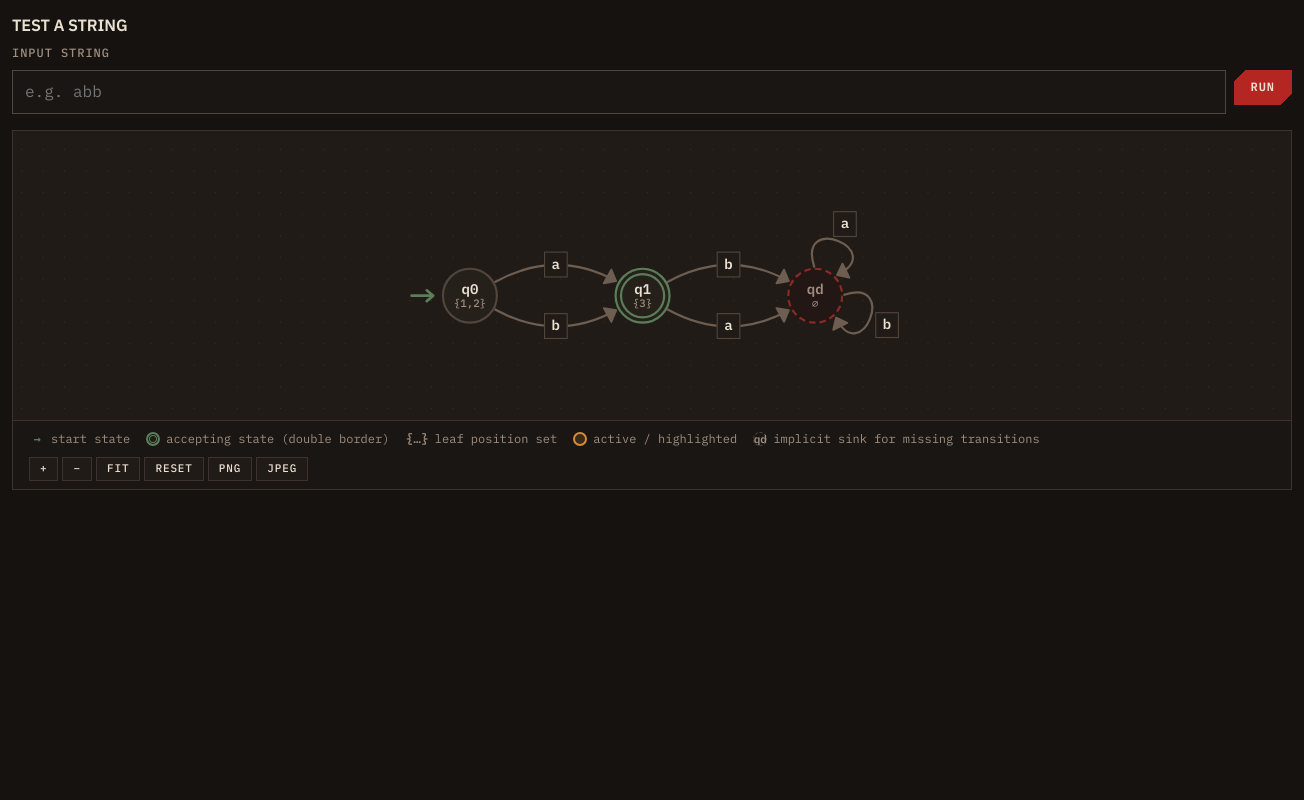
Scenario: <StringSimulator /> › runs a valid string, displays verdict and trace, and steps through trace
Type "a" into the field labelled "Input string" at (619, 92), box [12,70,1226,114]
Then press Enter
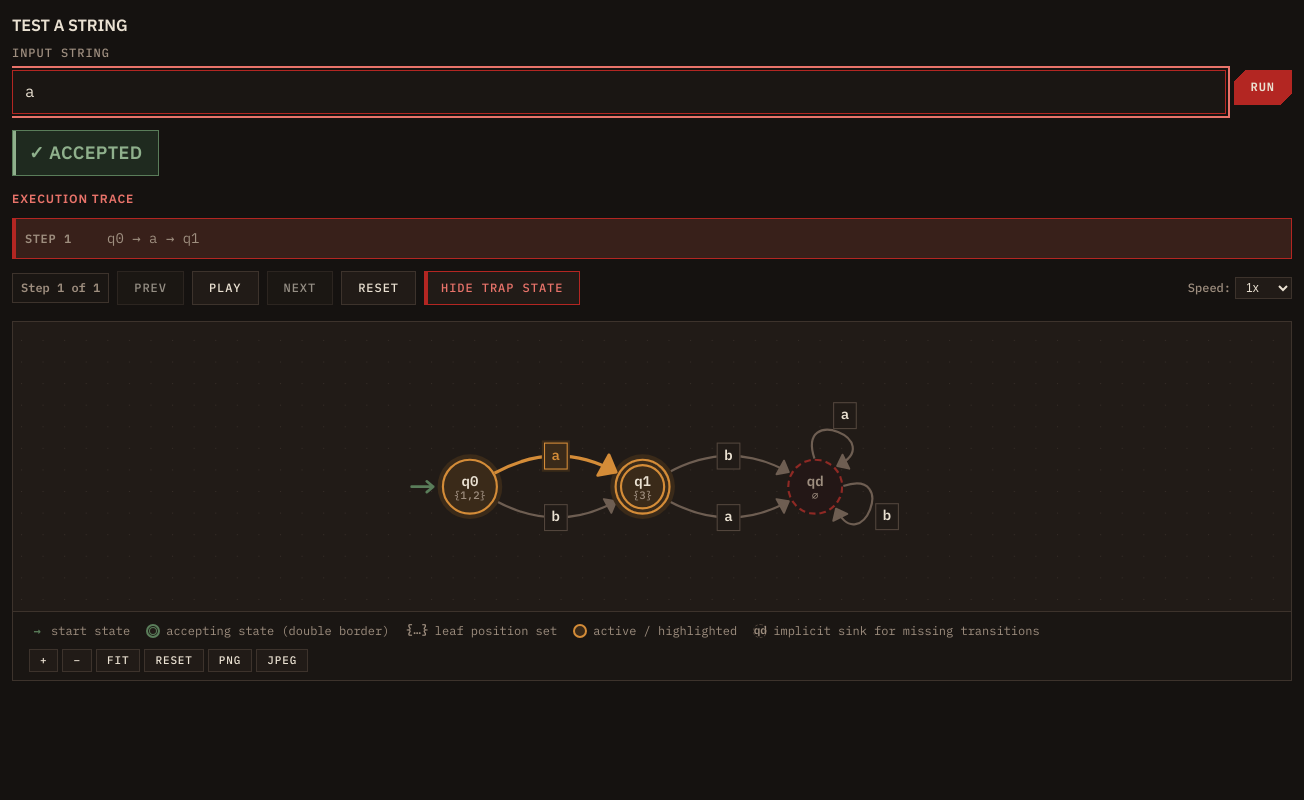
Result: the message shows "ACCEPTED" at [29,141,142,164]
Result: the text "Step 1" is shown at [25,231,72,246]
Result: the button with aria-label "play simulation animation" is shown
Click the button with aria-label "play simulation animation" at (225, 288), box [192,271,258,305]
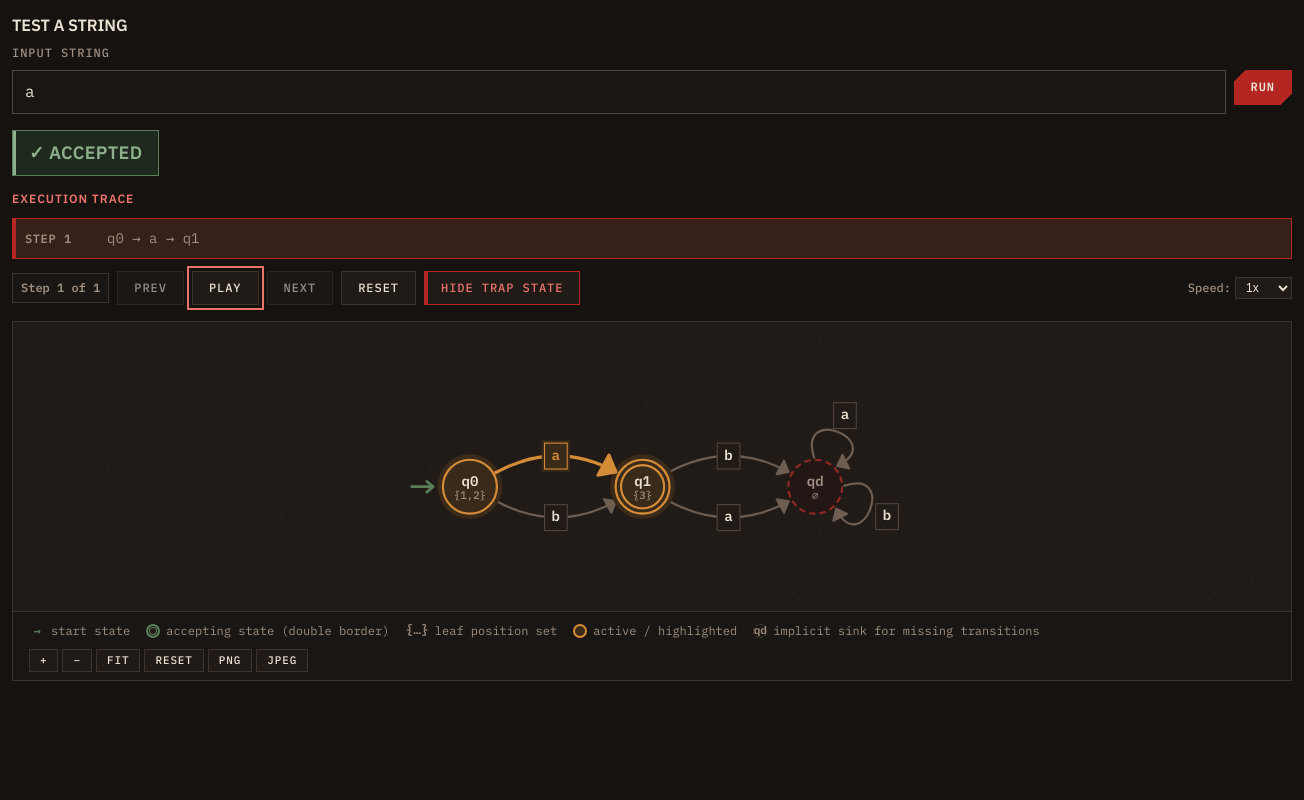
Result: the dropdown named "playback speed" is shown at [1235,277,1292,299]
Reset simulation
Click the button with aria-label "reset simulation" at (379, 288), box [341,271,416,305]
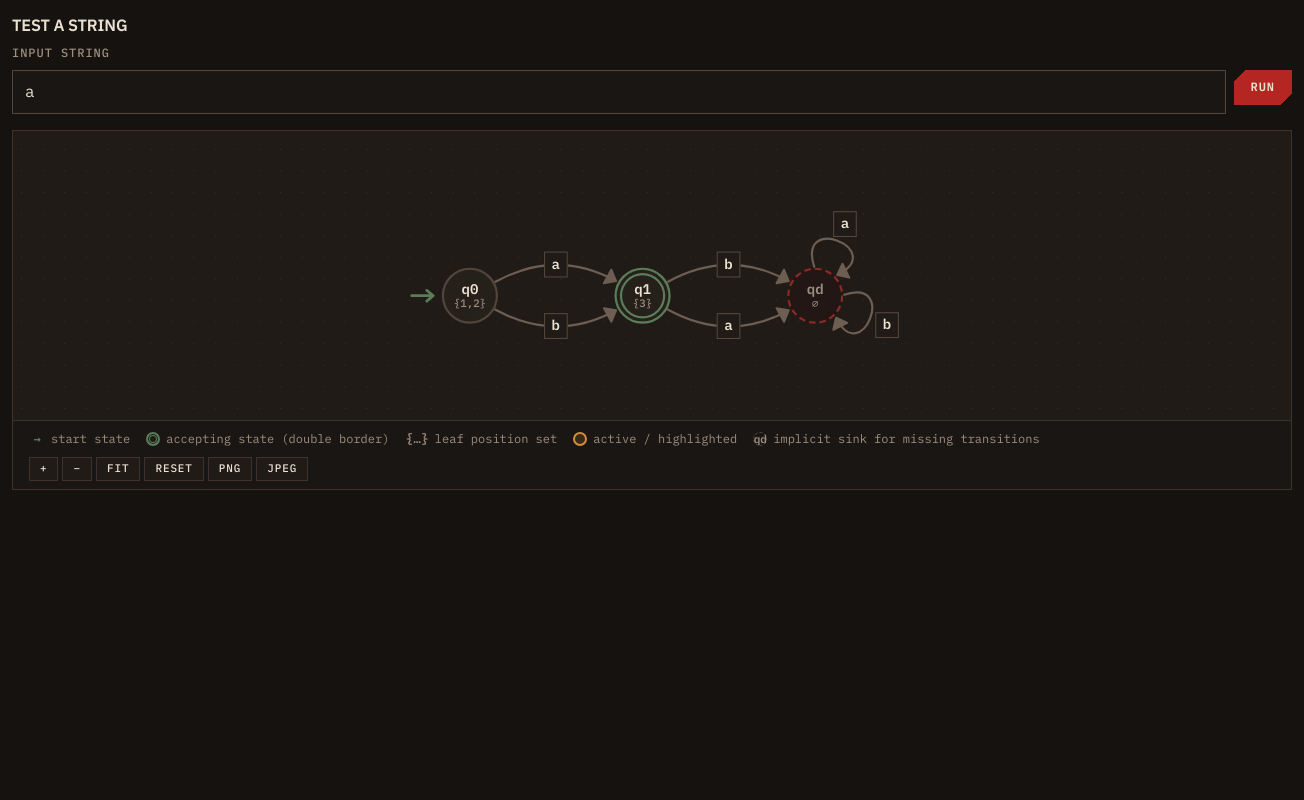
Result: the text "Step 1" is gone
